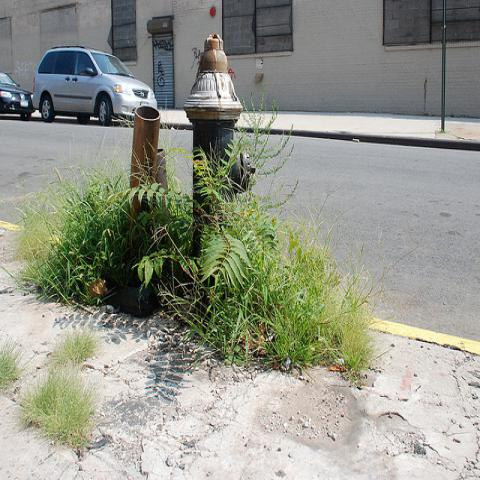car: (32, 45, 157, 127), (0, 72, 35, 118)
